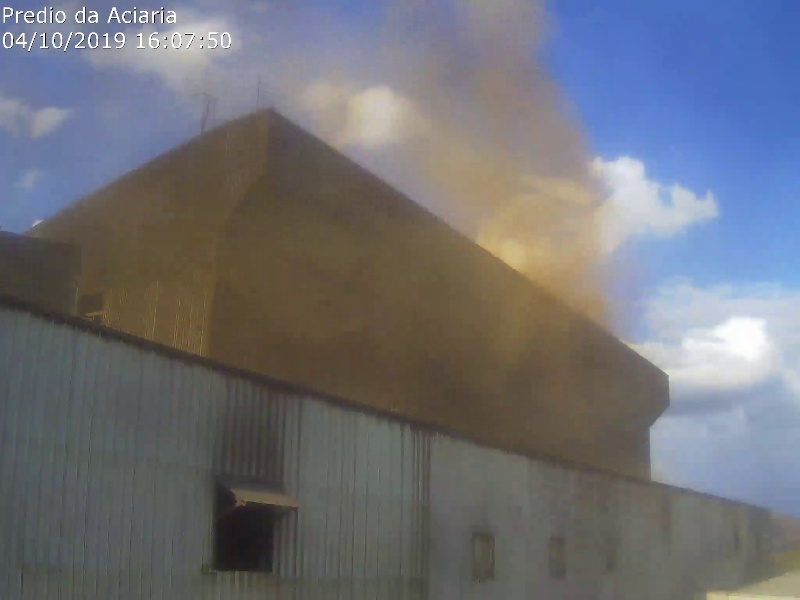pessimo: (291, 5, 626, 437)
